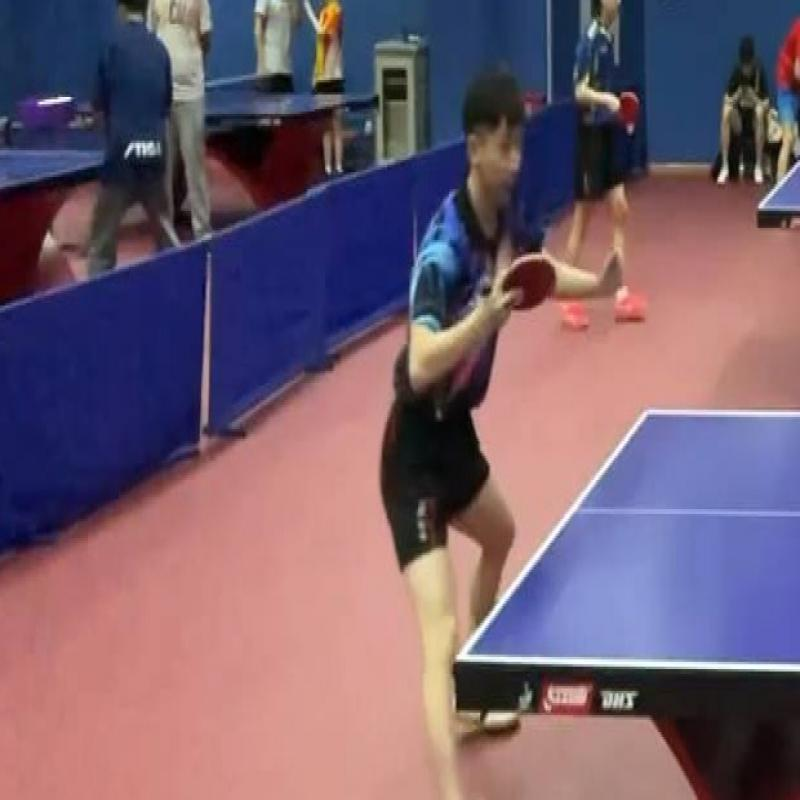bats: (491, 240, 562, 320)
